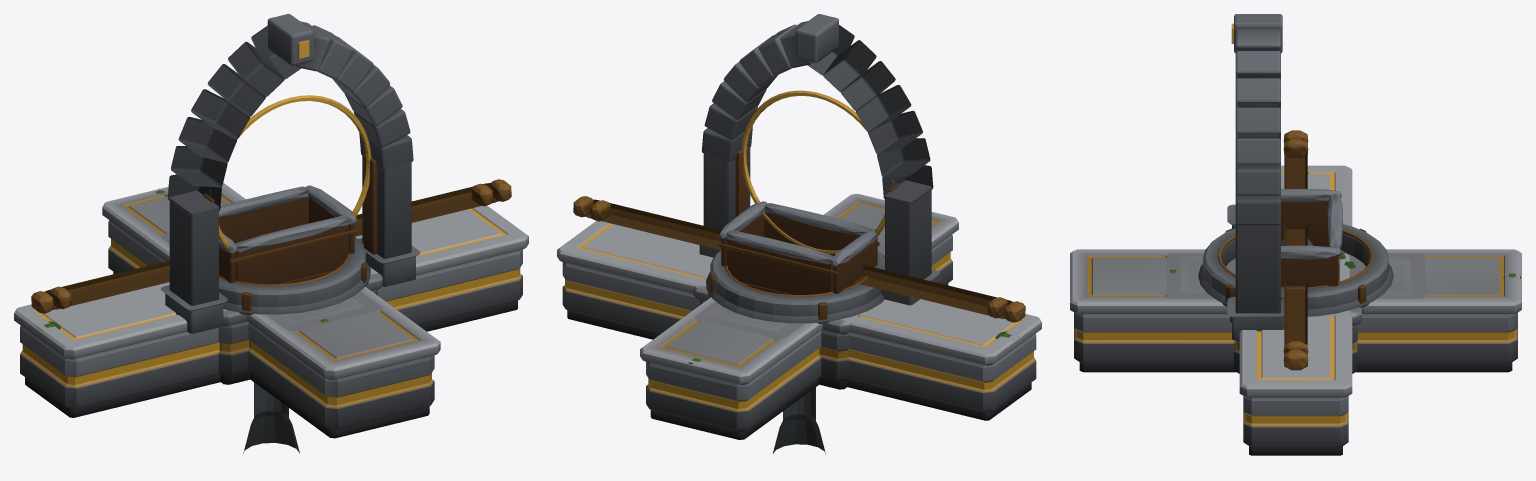
Rendered from temple-2-BSPqM68-.glb.
3 views of the same model, side by side, from view 1: azimuth 30°, elevation 25°; view 2: azimuth 150°, elevation 25°; view 3: azimuth 270°, elevation 25° (orthographic). The views are drawn at different scales.
Parts seen in each view (by area): view 1: portal_#0, block_28x2x6#0, block_7x2x24#0, hopper_6x3#0, geyserVent_8#0, mount_13.8#0, block_10x2x7#0, support_0_round#0, block_6x2x14#0, mount_12.7#0; view 2: block_28x2x6#0, portal_#0, block_7x2x24#0, hopper_6x3#0, geyserVent_8#0, mount_13.8#0, block_10x2x7#0, support_0_round#0, block_6x2x14#0, mount_12.7#0; view 3: block_7x2x24#0, block_28x2x6#0, portal_#0, geyserVent_8#0, hopper_6x3#0, mount_13.8#0, block_6x2x14#0, block_10x2x7#0, mount_12.7#0.
Boxes of the visible parts, x1=… form: portal_#0: x1=161, y1=14, x2=420, y2=333; block_28x2x6#0: x1=14, y1=205, x2=528, y2=417; block_7x2x24#0: x1=102, y1=183, x2=440, y2=438; hopper_6x3#0: x1=219, y1=185, x2=357, y2=284; geyserVent_8#0: x1=219, y1=237, x2=370, y2=315; mount_13.8#0: x1=31, y1=179, x2=511, y2=313; block_10x2x7#0: x1=218, y1=267, x2=382, y2=384; support_0_round#0: x1=243, y1=382, x2=299, y2=453; block_6x2x14#0: x1=161, y1=233, x2=381, y2=332; mount_12.7#0: x1=49, y1=183, x2=493, y2=309; block_28x2x6#0: x1=557, y1=221, x2=1041, y2=420; portal_#0: x1=699, y1=14, x2=939, y2=305; block_7x2x24#0: x1=640, y1=193, x2=958, y2=439; hopper_6x3#0: x1=719, y1=201, x2=879, y2=294; geyserVent_8#0: x1=706, y1=250, x2=884, y2=323; mount_13.8#0: x1=573, y1=196, x2=1025, y2=322; block_10x2x7#0: x1=693, y1=277, x2=859, y2=389; support_0_round#0: x1=773, y1=387, x2=825, y2=454; block_6x2x14#0: x1=695, y1=243, x2=884, y2=340; mount_12.7#0: x1=590, y1=200, x2=1008, y2=318; block_7x2x24#0: x1=1070, y1=249, x2=1521, y2=372; block_28x2x6#0: x1=1239, y1=165, x2=1352, y2=455; portal_#0: x1=1227, y1=14, x2=1284, y2=340; geyserVent_8#0: x1=1198, y1=224, x2=1393, y2=316; hopper_6x3#0: x1=1281, y1=189, x2=1342, y2=286; mount_13.8#0: x1=1283, y1=130, x2=1308, y2=370; block_6x2x14#0: x1=1165, y1=253, x2=1426, y2=298; block_10x2x7#0: x1=1230, y1=255, x2=1361, y2=373; mount_12.7#0: x1=1283, y1=139, x2=1308, y2=354.
Bounding box in the file's own units: 28.5 × 25.59 × 24.
